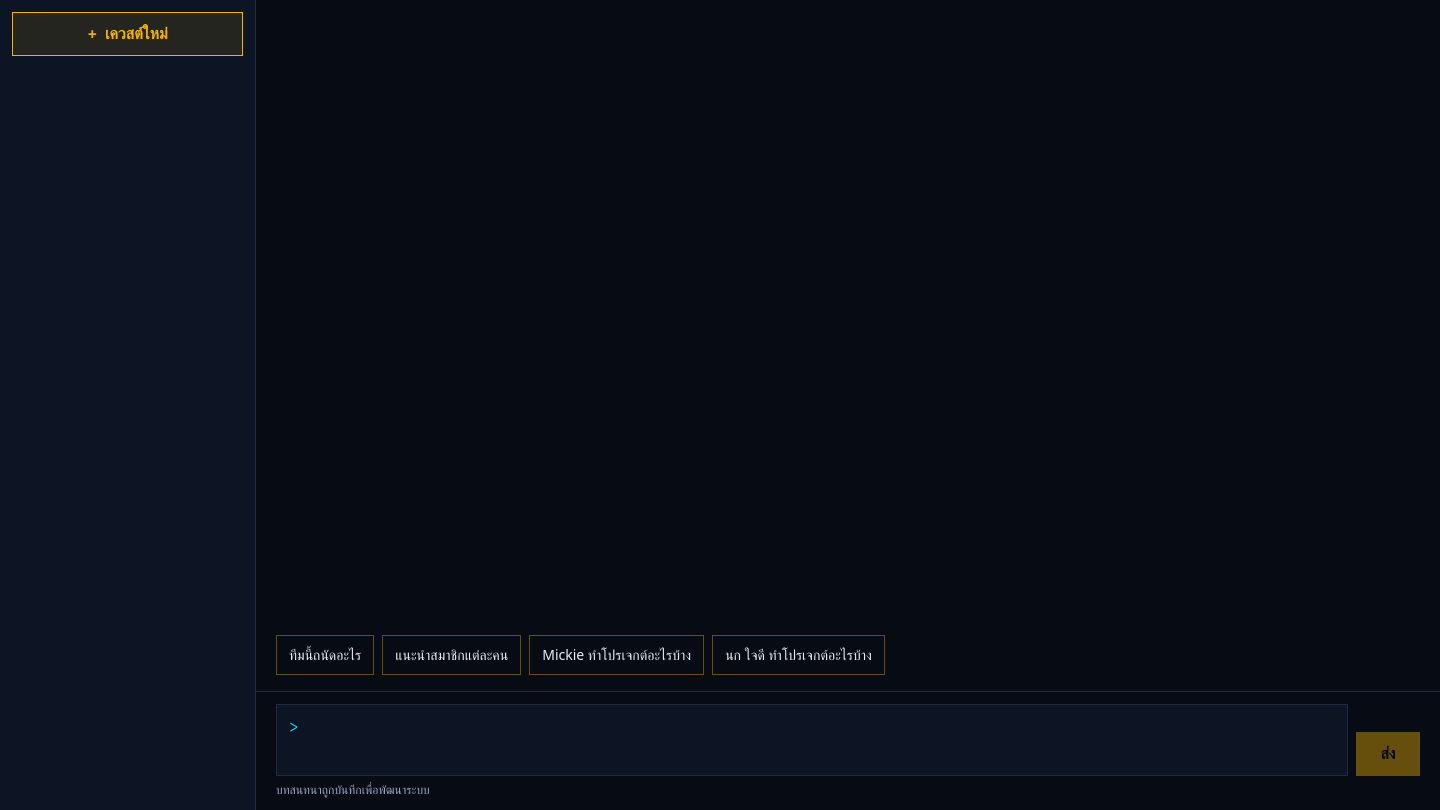
Test: ChatPage › RATE_LIMITED and AI_ERROR events render fixed Thai copy in the chat
The width and height of the screenshot is (1440, 810).
In the text box named "ข้อความ": {"x": 823, "y": 740} [299,705,1347,775], type "q"
Then press Enter
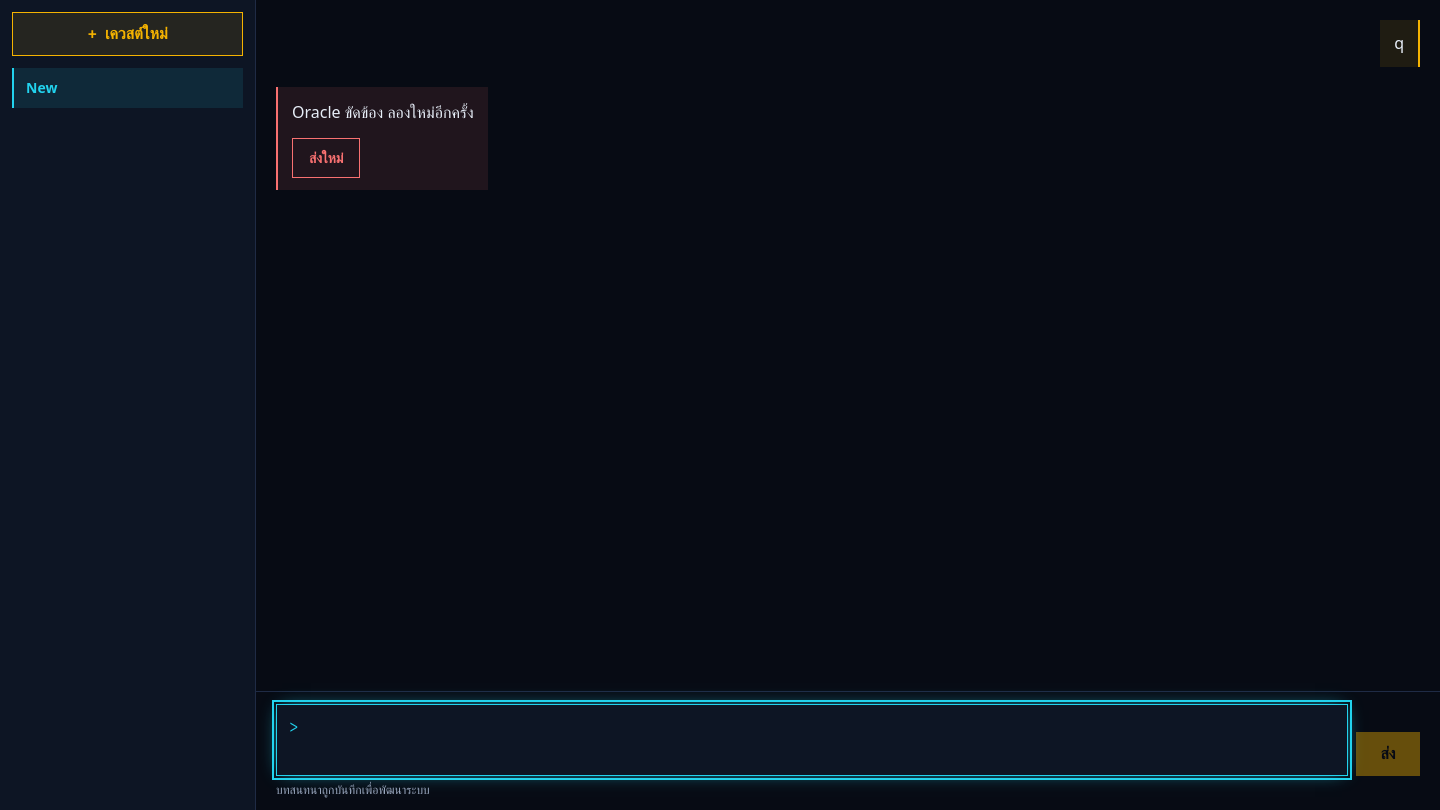
expect the text "Oracle ขัดข้อง ลองใหม่อีกครั้ง" is shown: met, box [292,99,474,126]
